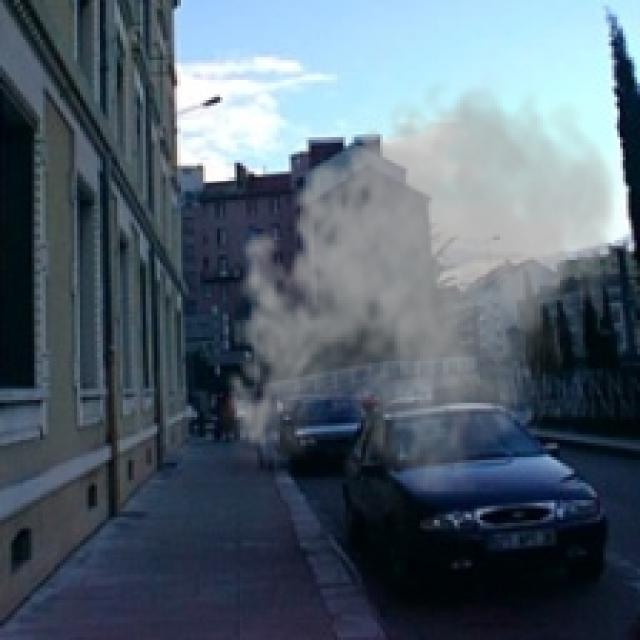Smoke: (214, 72, 626, 497)
